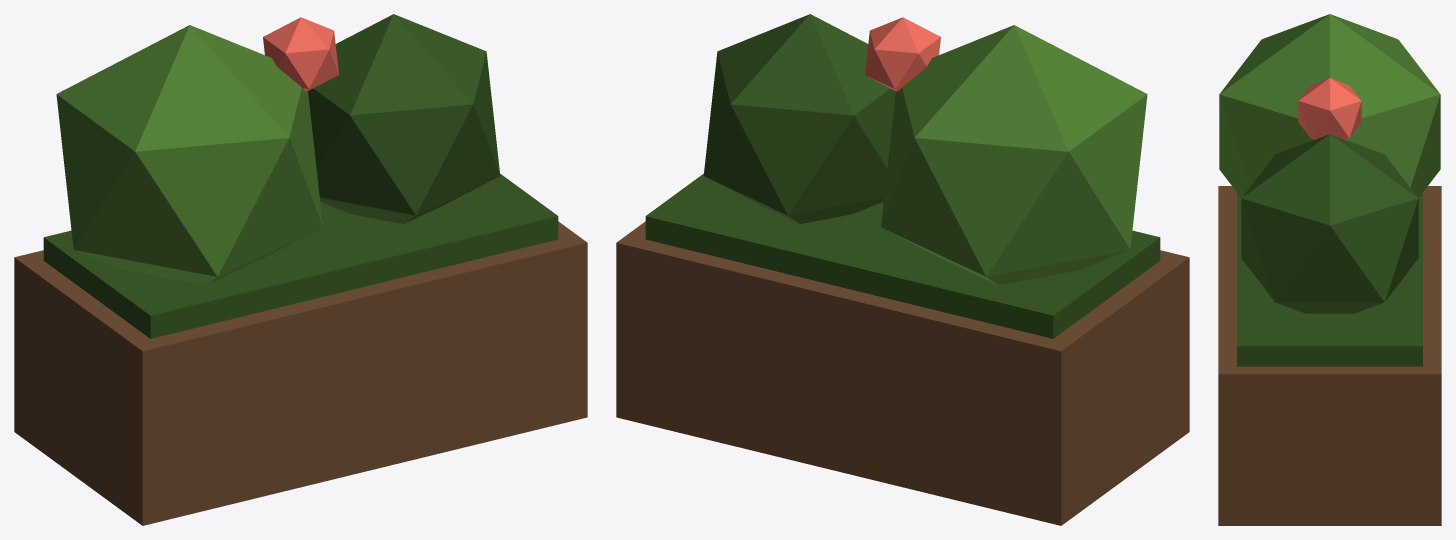
Rendered from prop.planter.glb.
The picture shows the model from 3 angles, left to right: view 1: azimuth 30°, elevation 25°; view 2: azimuth 150°, elevation 25°; view 3: azimuth 270°, elevation 25°; orthographic projection. The views are drawn at different scales.
Visible parts, largest first — view 1: prop.planter; view 2: prop.planter; view 3: prop.planter.
Part boxes in pixels (x1,y1,x2,y2): prop.planter: (14, 14, 587, 525); prop.planter: (616, 14, 1189, 525); prop.planter: (1218, 14, 1441, 525).
Bounding box in the file's own units: 1.21 × 1.1 × 0.6.
